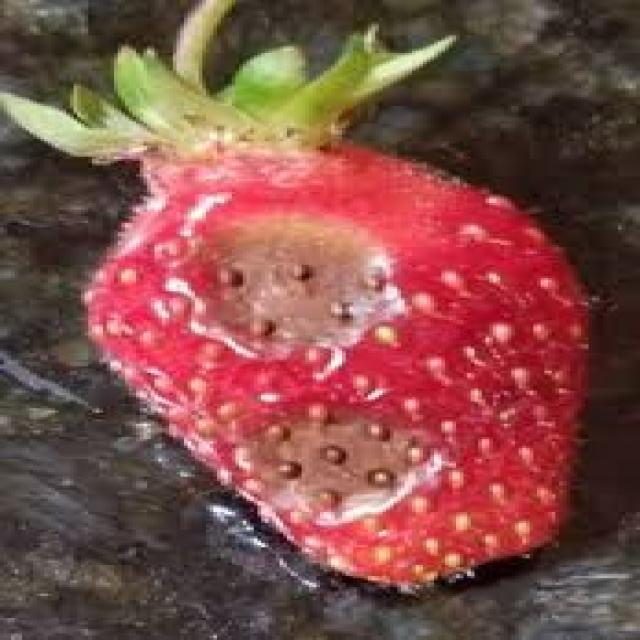Mancha negra Antracnosis: (91, 123, 568, 582)
